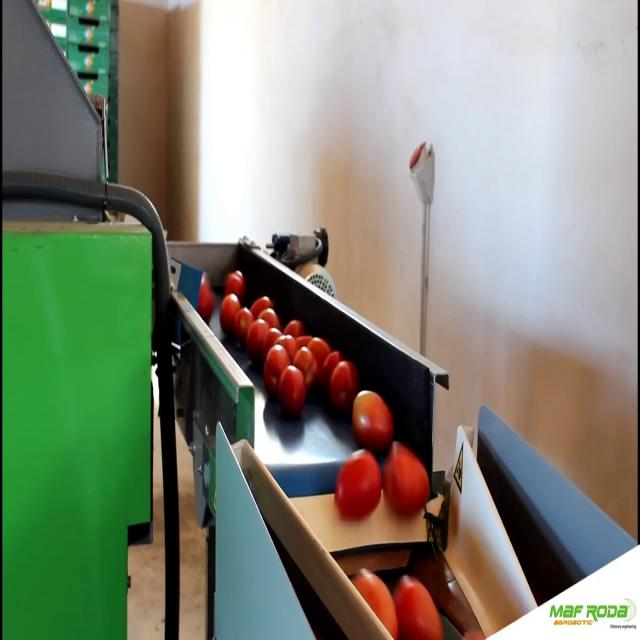Tomato: (334, 448, 384, 530), (396, 575, 453, 640), (354, 558, 396, 640), (386, 447, 430, 516), (349, 382, 394, 446), (329, 361, 359, 406), (281, 366, 306, 412), (268, 344, 286, 392), (223, 267, 251, 294), (192, 292, 213, 326), (293, 349, 314, 380), (218, 298, 237, 332), (249, 319, 268, 352), (311, 343, 331, 371), (235, 308, 255, 331), (323, 349, 339, 377), (278, 332, 296, 353), (251, 297, 269, 315), (263, 306, 278, 326), (285, 318, 303, 334)
